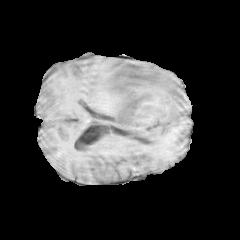glioma: (90, 66, 187, 144)
